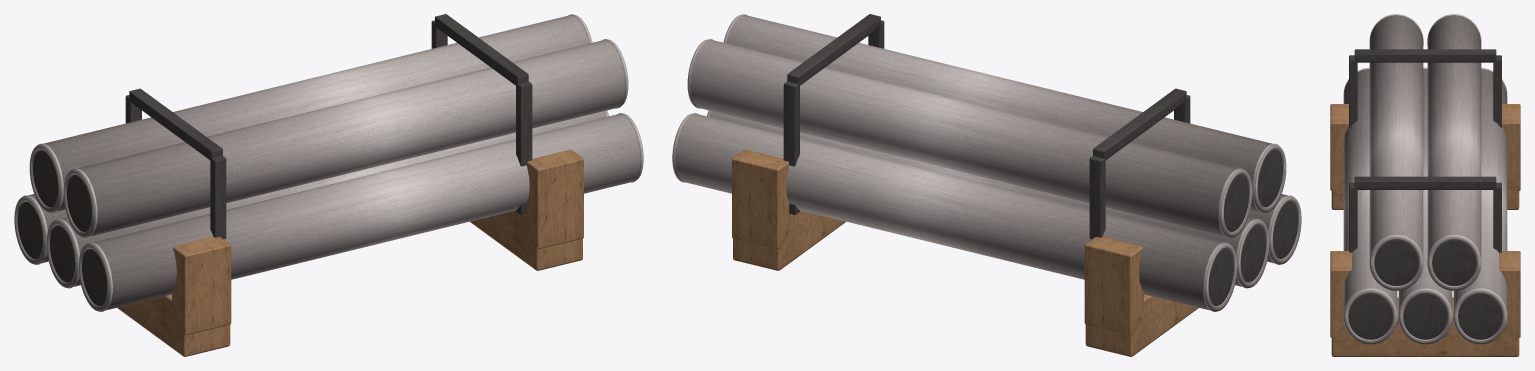
File: SM_FacilityRooms_PipeBundle.fbx
3 views of the same model, side by side, from view 1: azimuth 30°, elevation 25°; view 2: azimuth 150°, elevation 25°; view 3: azimuth 270°, elevation 25° (orthographic). The views are drawn at different scales.
Visible parts, largest first — view 1: SM_FacilityRooms_PipeBundle; view 2: SM_FacilityRooms_PipeBundle; view 3: SM_FacilityRooms_PipeBundle.
Part boxes in pixels (x1,y1,x2,y2): SM_FacilityRooms_PipeBundle: [14, 14, 643, 356]; SM_FacilityRooms_PipeBundle: [672, 14, 1301, 356]; SM_FacilityRooms_PipeBundle: [1330, 14, 1520, 356].
Size of what is drawn, in the model's own units: 180 by 65 by 60.
